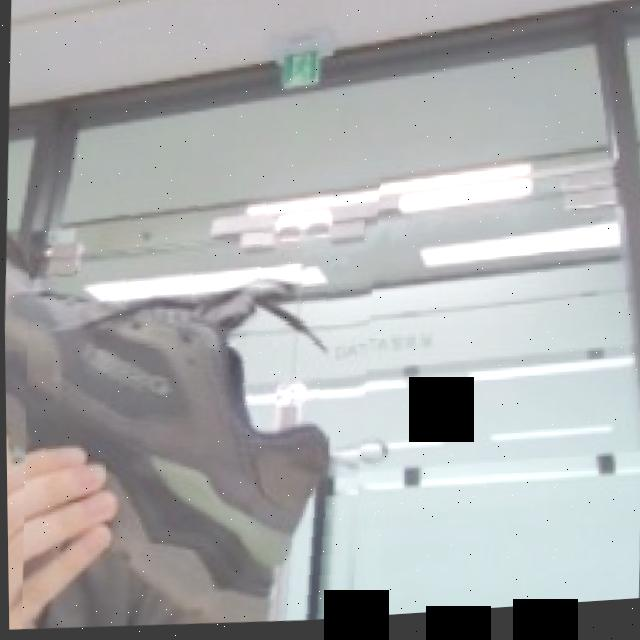shoe: (14, 164, 384, 639)
